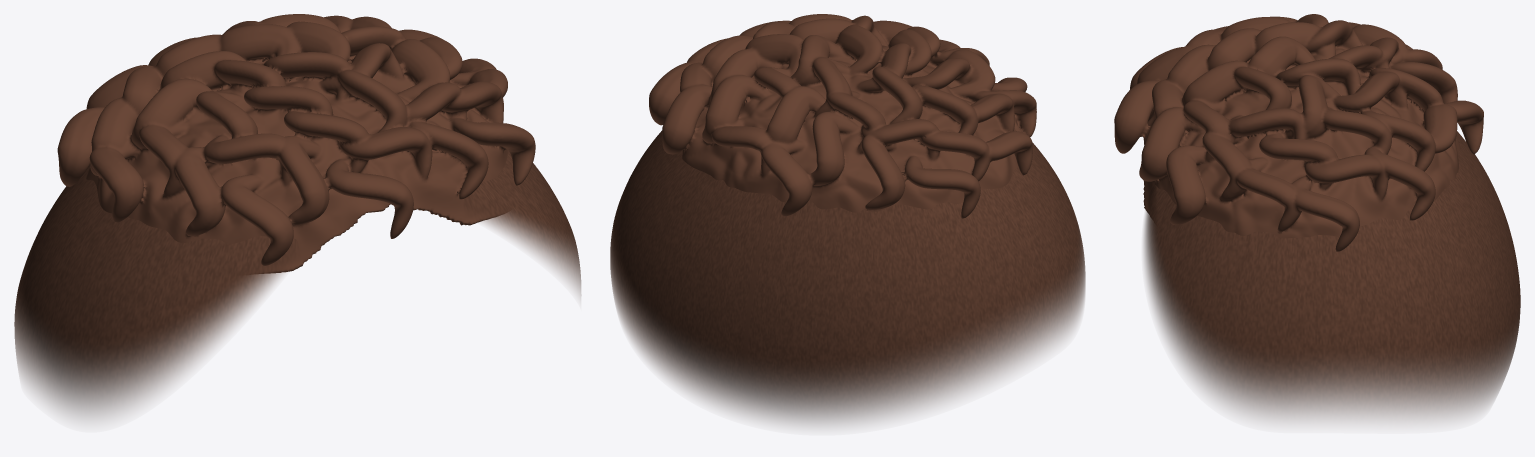
The model's file is Masculine-curly-top-hair252.glb.
3 views of the same model, side by side, from view 1: azimuth 30°, elevation 25°; view 2: azimuth 150°, elevation 25°; view 3: azimuth 270°, elevation 25° (orthographic). The views are drawn at different scales.
Visible parts, largest first — view 1: 226 hair / Hair252 / sculpted curl groups, 226 hair / Hair252 / curly close fade coverage; view 2: 226 hair / Hair252 / curly close fade coverage, 226 hair / Hair252 / sculpted curl groups; view 3: 226 hair / Hair252 / curly close fade coverage, 226 hair / Hair252 / sculpted curl groups.
Part boxes in pixels (x1,y1,x2,y2): 226 hair / Hair252 / sculpted curl groups: (57, 14, 535, 273); 226 hair / Hair252 / curly close fade coverage: (14, 152, 580, 418); 226 hair / Hair252 / curly close fade coverage: (610, 130, 1085, 425); 226 hair / Hair252 / sculpted curl groups: (649, 14, 1036, 218); 226 hair / Hair252 / curly close fade coverage: (1143, 131, 1520, 420); 226 hair / Hair252 / sculpted curl groups: (1114, 14, 1483, 251).
Bounding box in the file's own units: 0.976 × 0.7233 × 0.762.
Materials: 2 (1 with a texture image).
